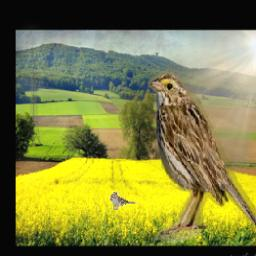Sparrow: (149, 70, 256, 245), (109, 191, 137, 210)
